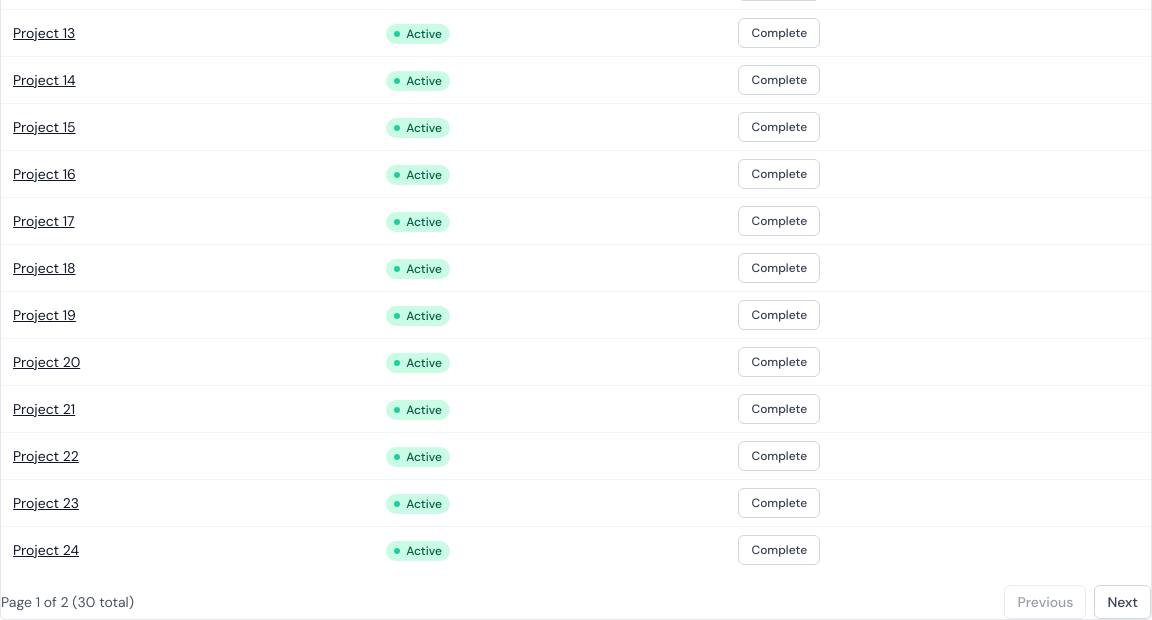
it: ProjectsPage › resets to page 1 when a filter is applied
(page scrolled)
Click the button "Next" at (1123, 602), box x1=1094 y1=585 x2=1151 y2=619
(page scrolled)
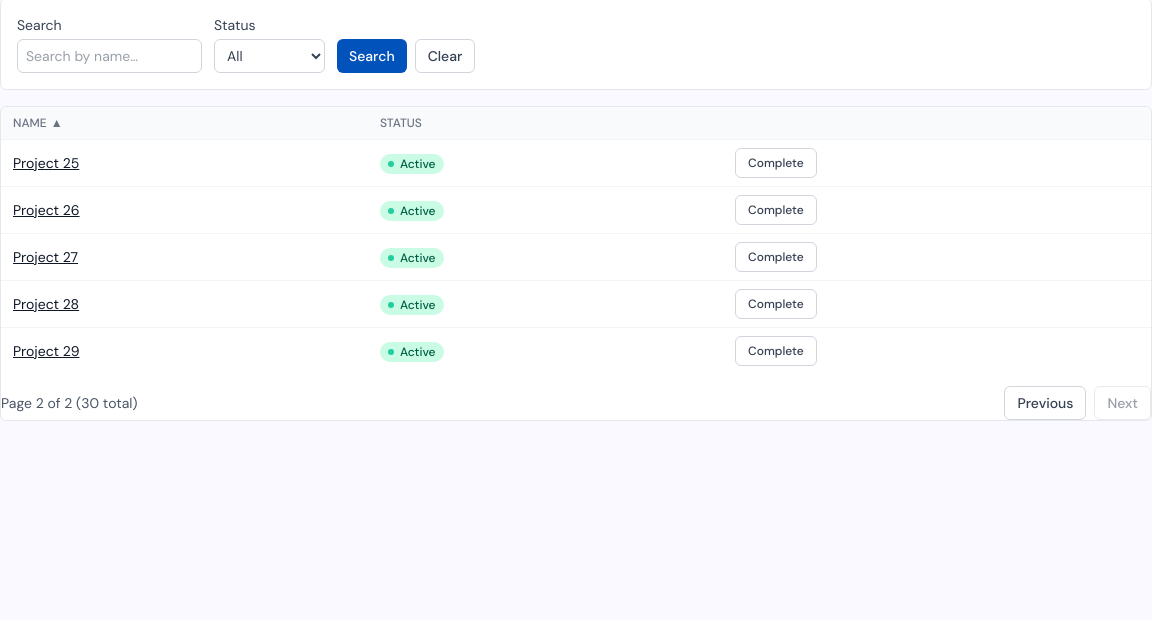
Expected: the link "Project 25" is shown, x1=13 y1=154 x2=79 y2=172
Type "Project 0" into the search field labelled "Search" at (110, 56), box x1=17 y1=39 x2=202 y2=73
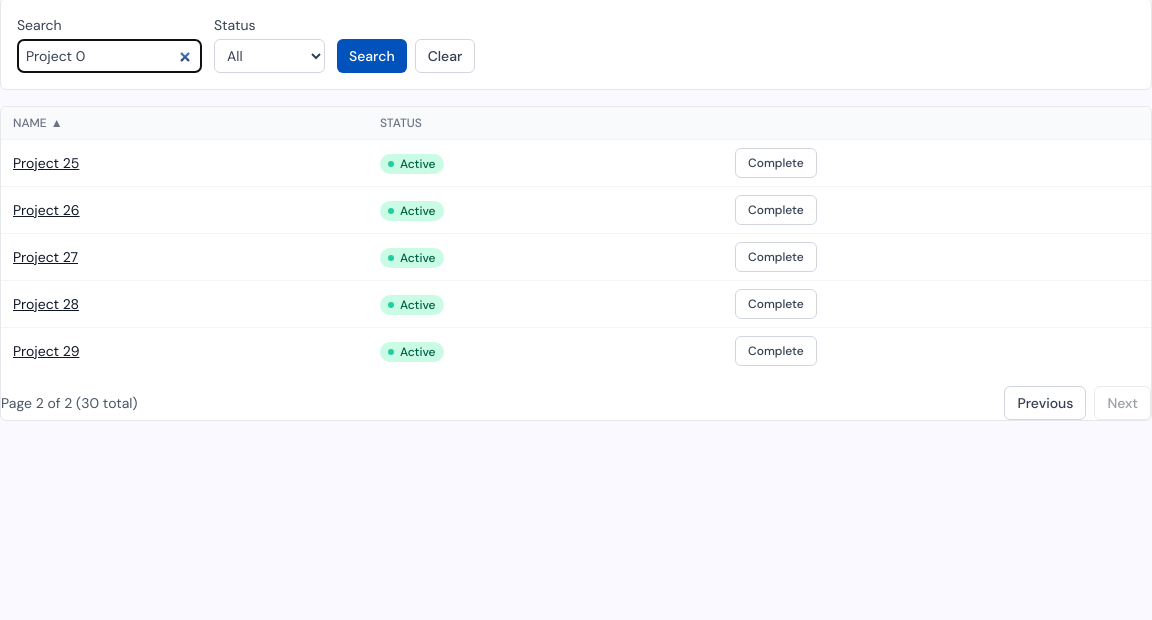
Click the button "Search" at (372, 56), box x1=337 y1=39 x2=407 y2=73
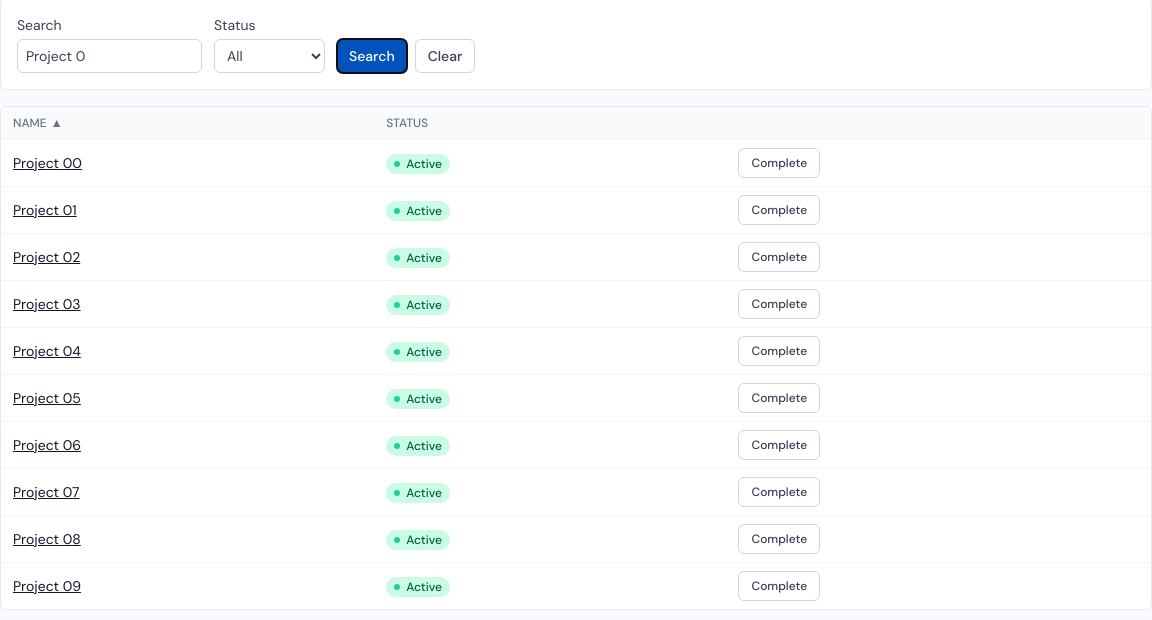
Expected: the link "Project 00" is shown, x1=13 y1=154 x2=82 y2=172
Expected: the text "Page 2 of 2 (30 total)" is gone
